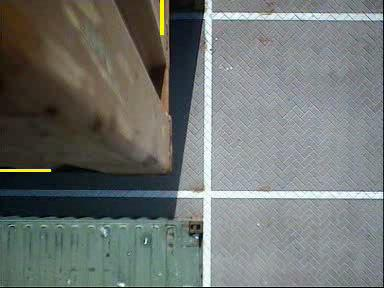groundmarker_2: (197, 223, 233, 288), (174, 88, 231, 129)
